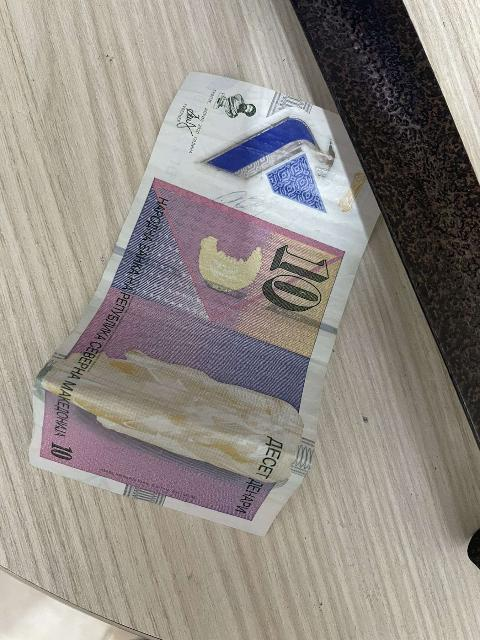note: (35, 75, 366, 533)
